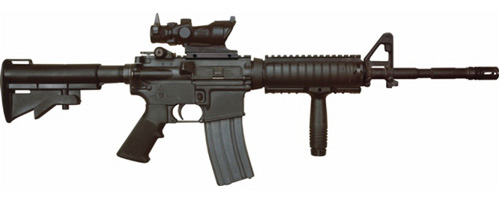Arma Falsa: (1, 14, 501, 186)
